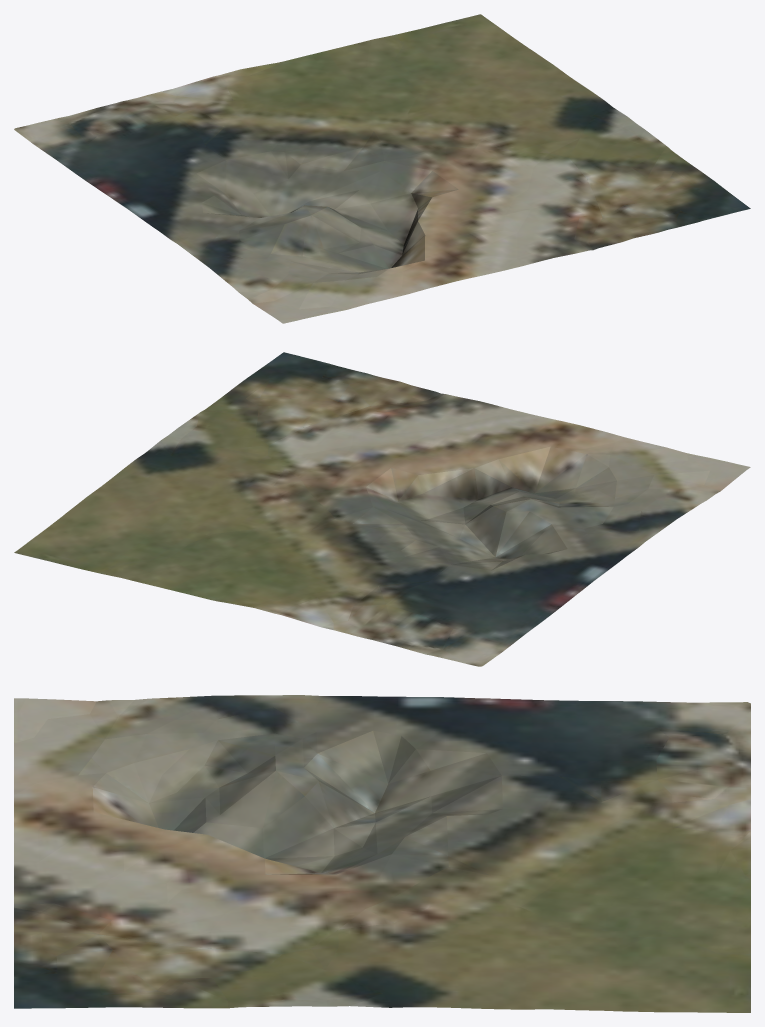
3 views of the same model, one above another, from view 1: azimuth 30°, elevation 25°; view 2: azimuth 150°, elevation 25°; view 3: azimuth 270°, elevation 25° (orthographic). The views are drawn at different scales.
Bounding box in the file's own units: 52.22 × 3.55 × 52.22.
2 materials, 2 textured.
